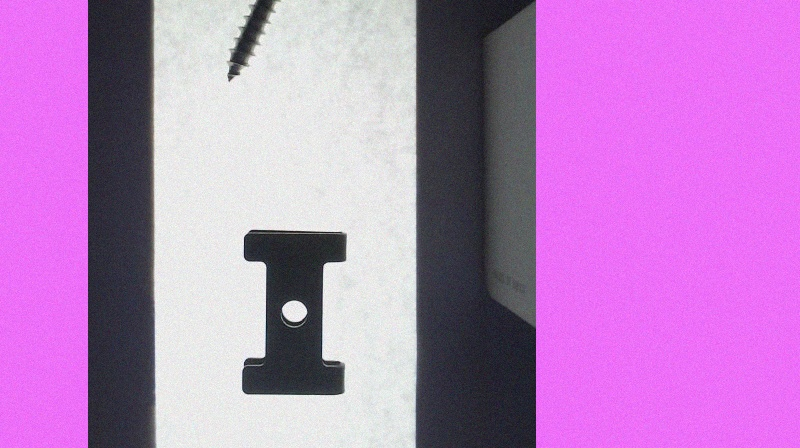O002: (239, 226, 348, 393)
S001: (226, 0, 322, 81)
